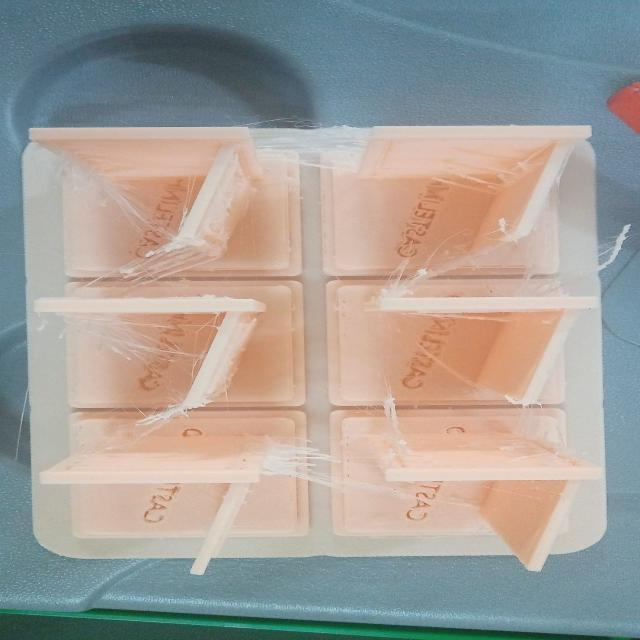stringing: (265, 438, 412, 498), (76, 239, 216, 293), (384, 237, 509, 295), (67, 315, 188, 372), (267, 125, 363, 156), (127, 400, 200, 439), (595, 221, 640, 271), (384, 392, 415, 448)
